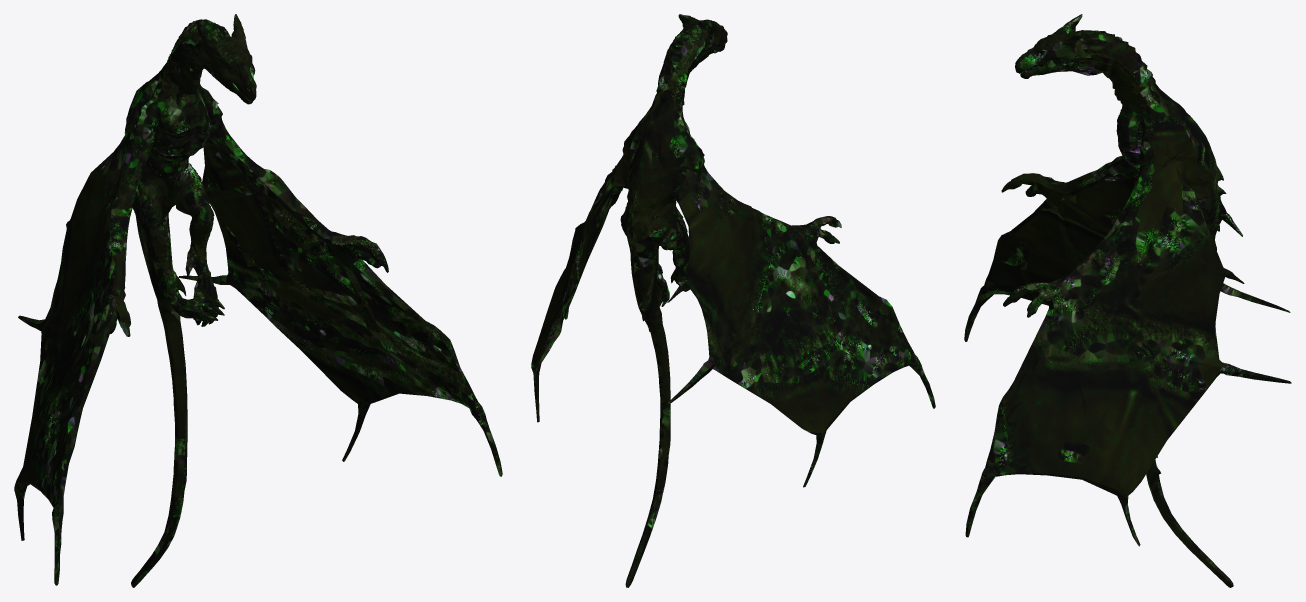
The model's file is frame_0032_uv.obj.
3 renders of one model, left to right at view 1: azimuth 30°, elevation 25°; view 2: azimuth 150°, elevation 25°; view 3: azimuth 270°, elevation 25°, orthographic. The views are drawn at different scales.
Parts seen in each view (by area): view 1: pMesh1; view 2: pMesh1; view 3: pMesh1.
Boxes of the visible parts, box(x1,y1,x2,y2) form: pMesh1: box(14, 14, 502, 587); pMesh1: box(531, 14, 935, 587); pMesh1: box(964, 14, 1291, 587).
Size of the model in its own units: 8.3 by 11.13 by 5.84.
